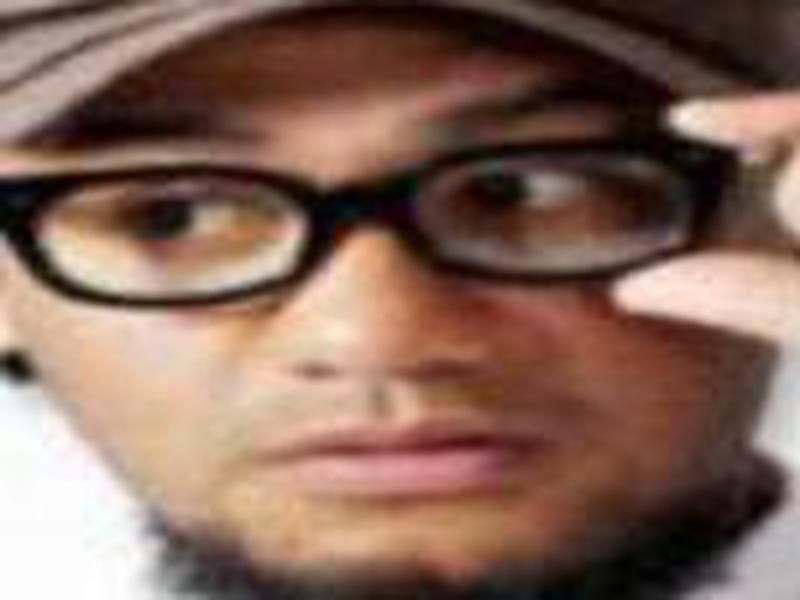without_mask: (2, 61, 775, 600)
